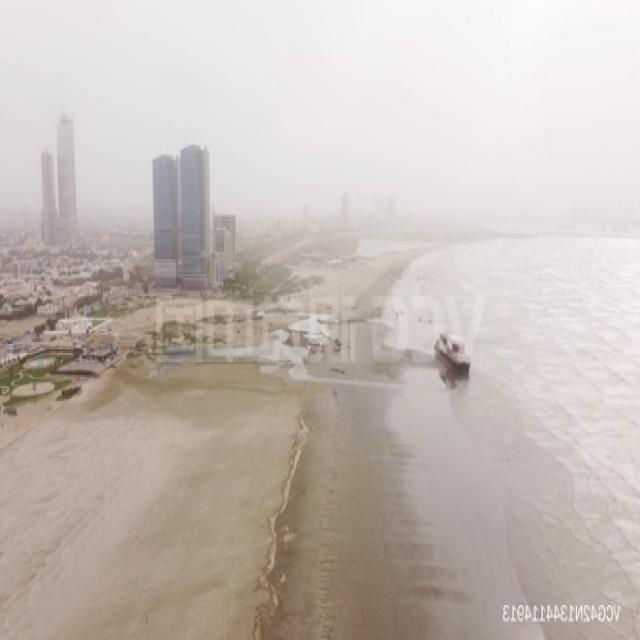cargoship: (432, 328, 470, 378)
